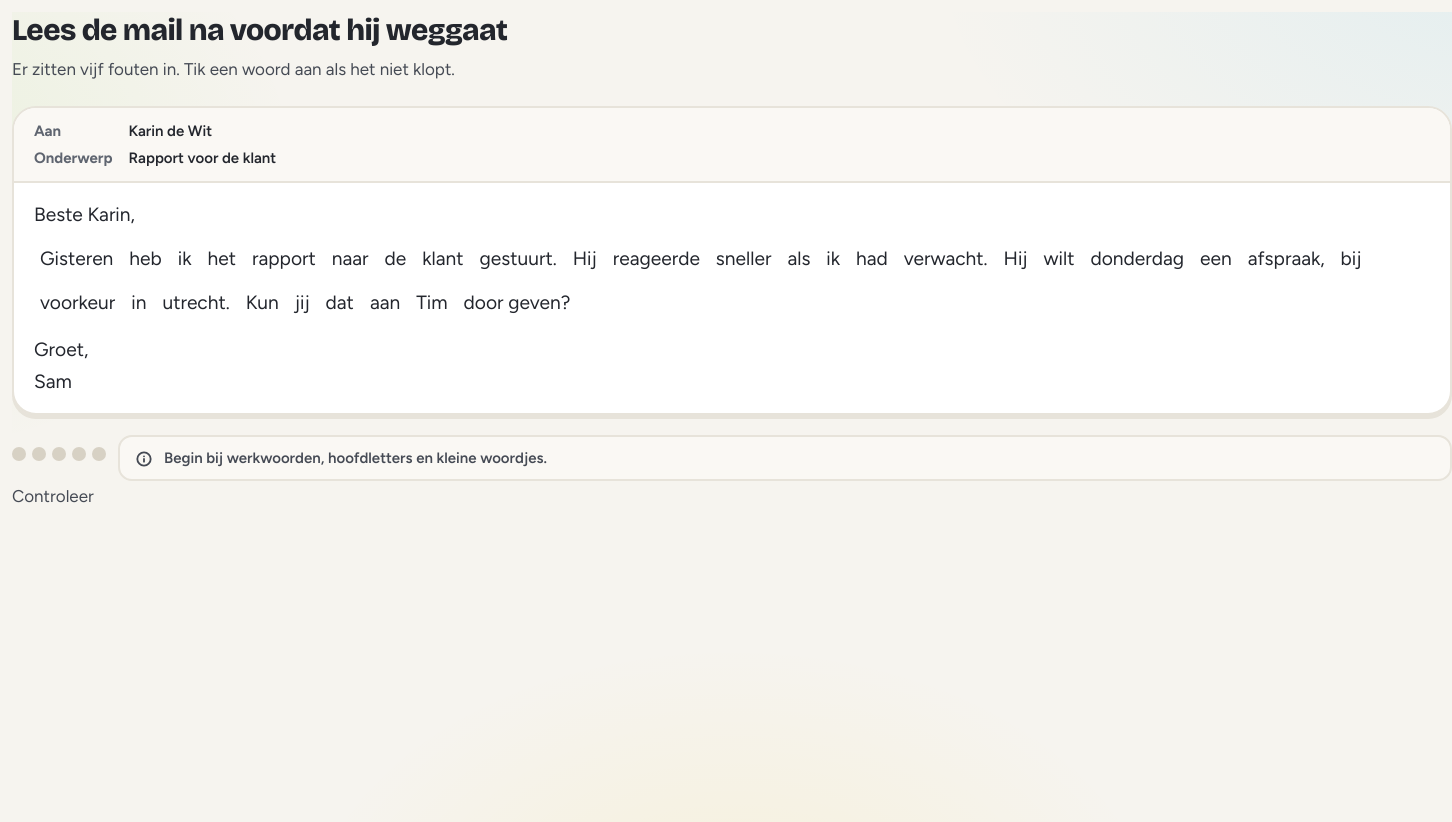
Scenario: groep D extra oefenvormen › vindt alle eindredactie-fouten en telt misgetikte woorden
Click the button "Gisteren" at [77, 258], box 34,238 -> 119,278
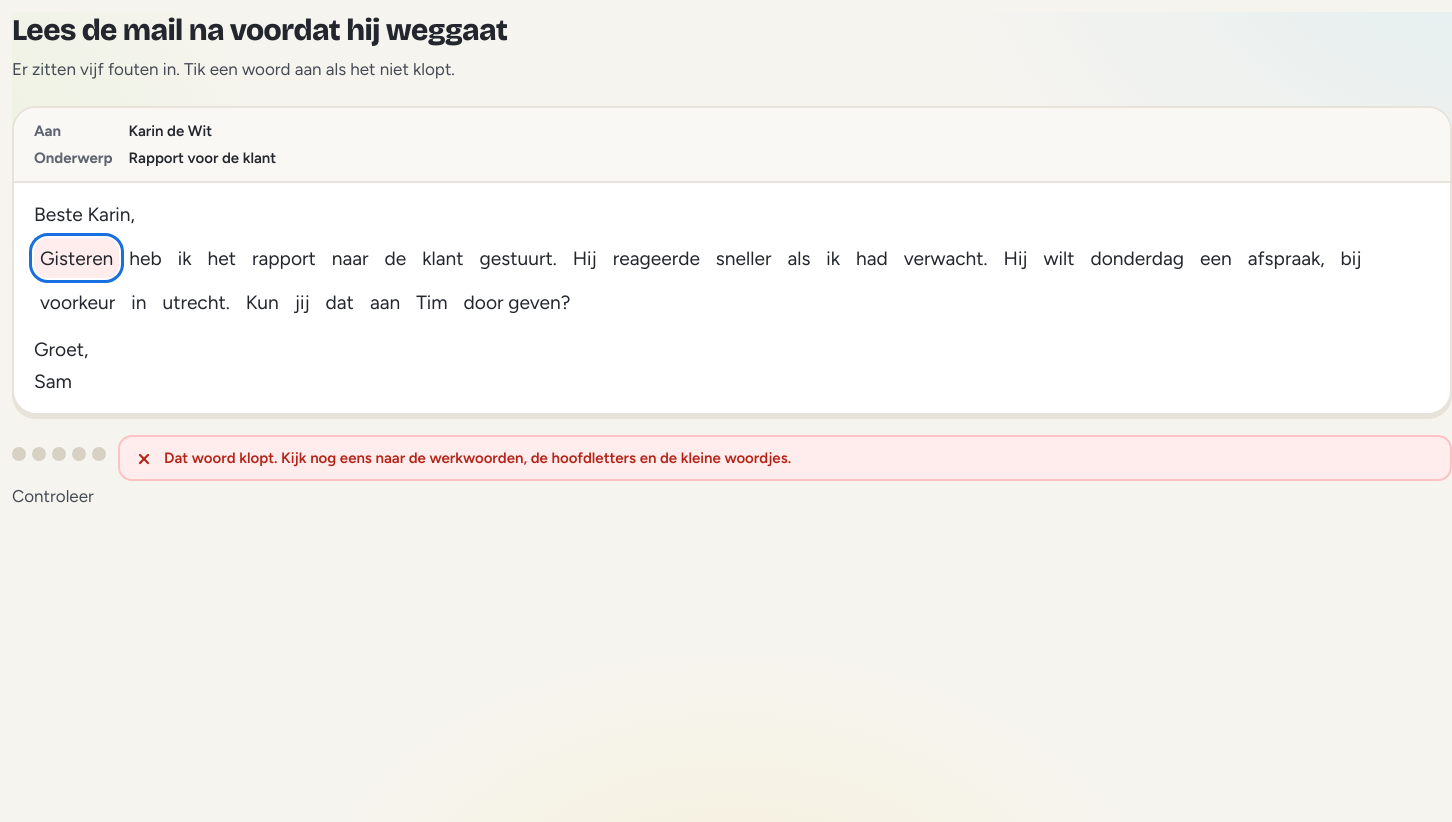
Click the button "gestuurt." at [518, 258], box 474,238 -> 563,278
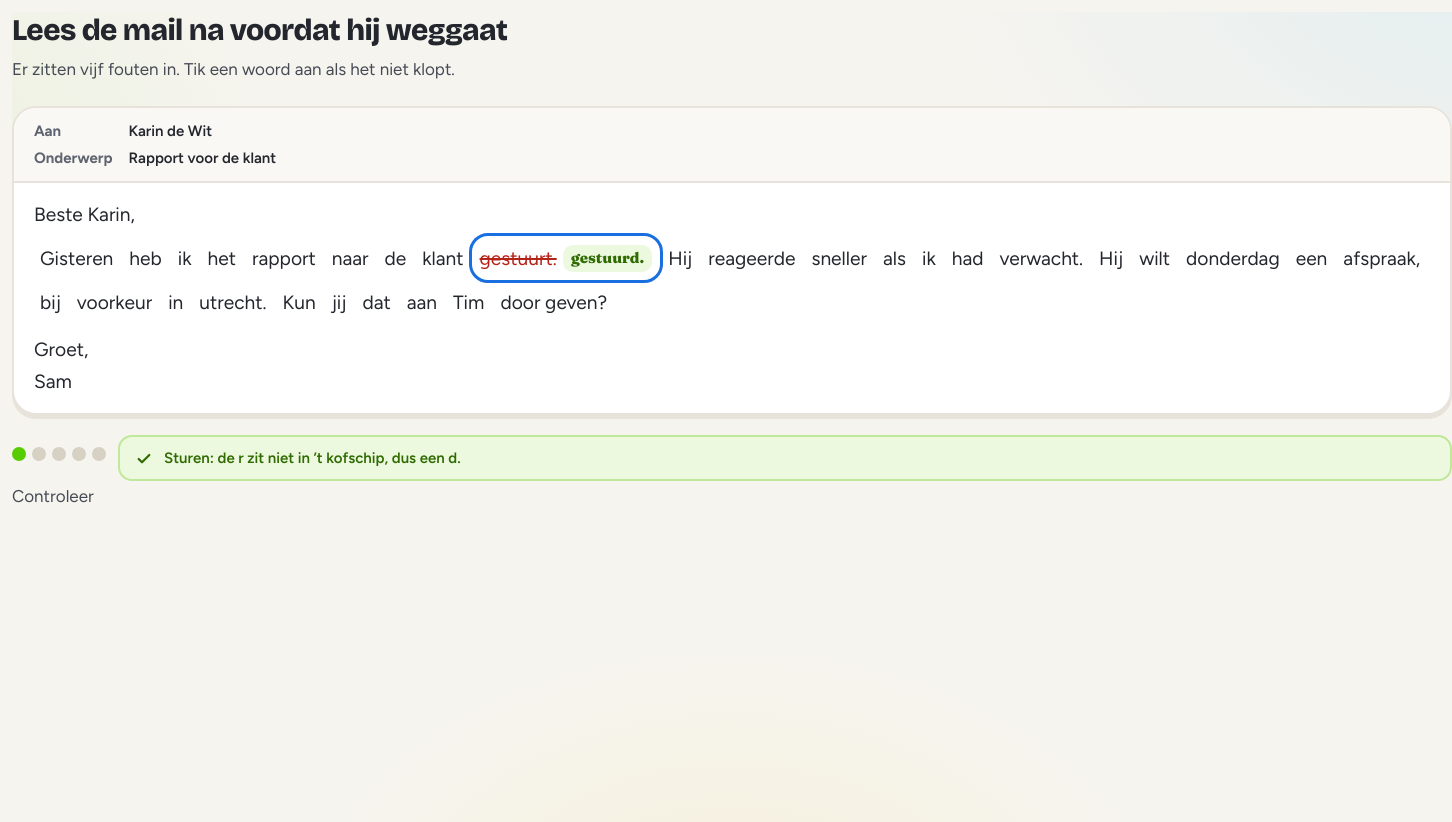
Click the button "als" at [894, 258], box 877,238 -> 912,278
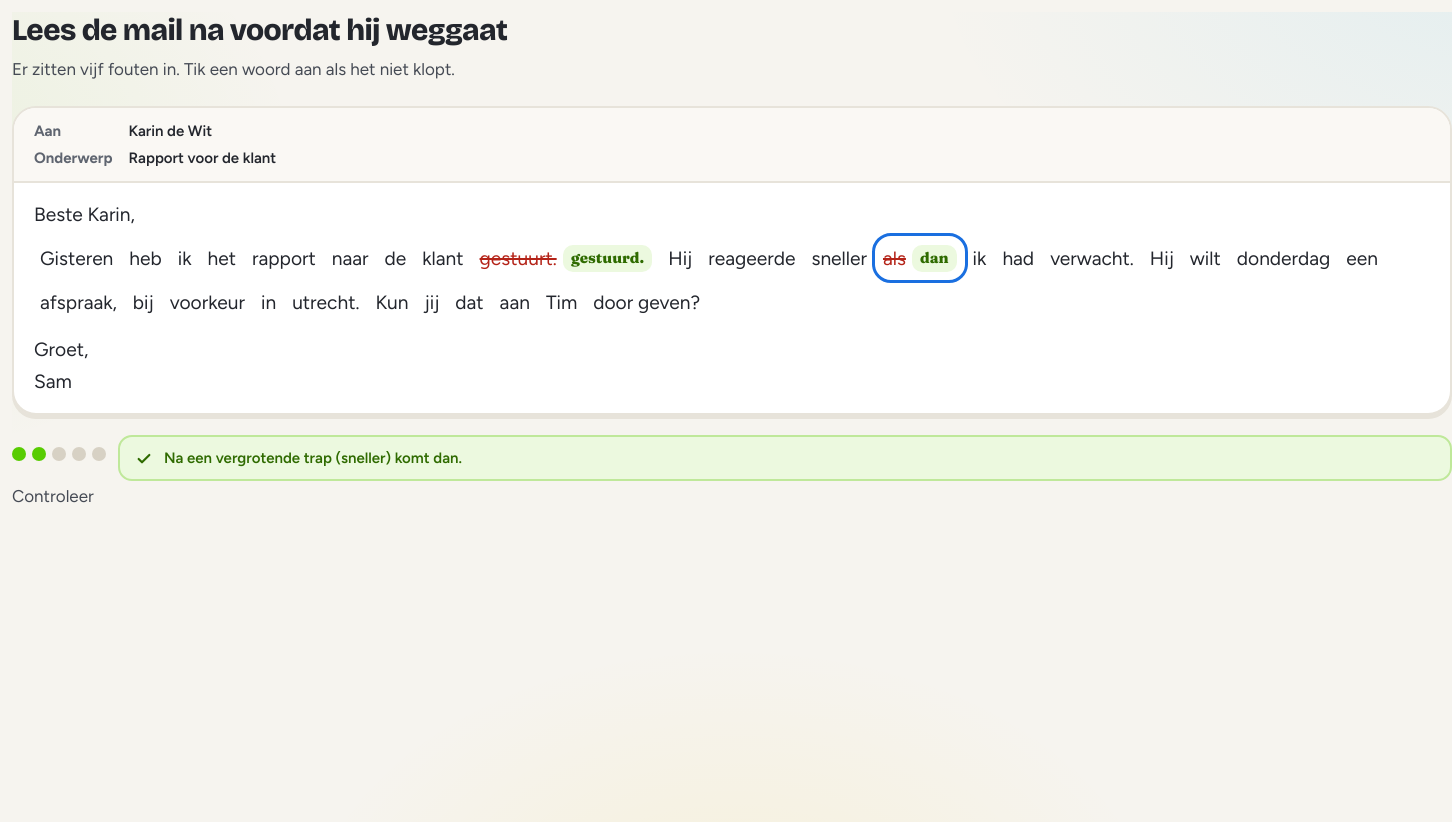
Click the button "wilt" at [1205, 258], box 1184,238 -> 1227,278
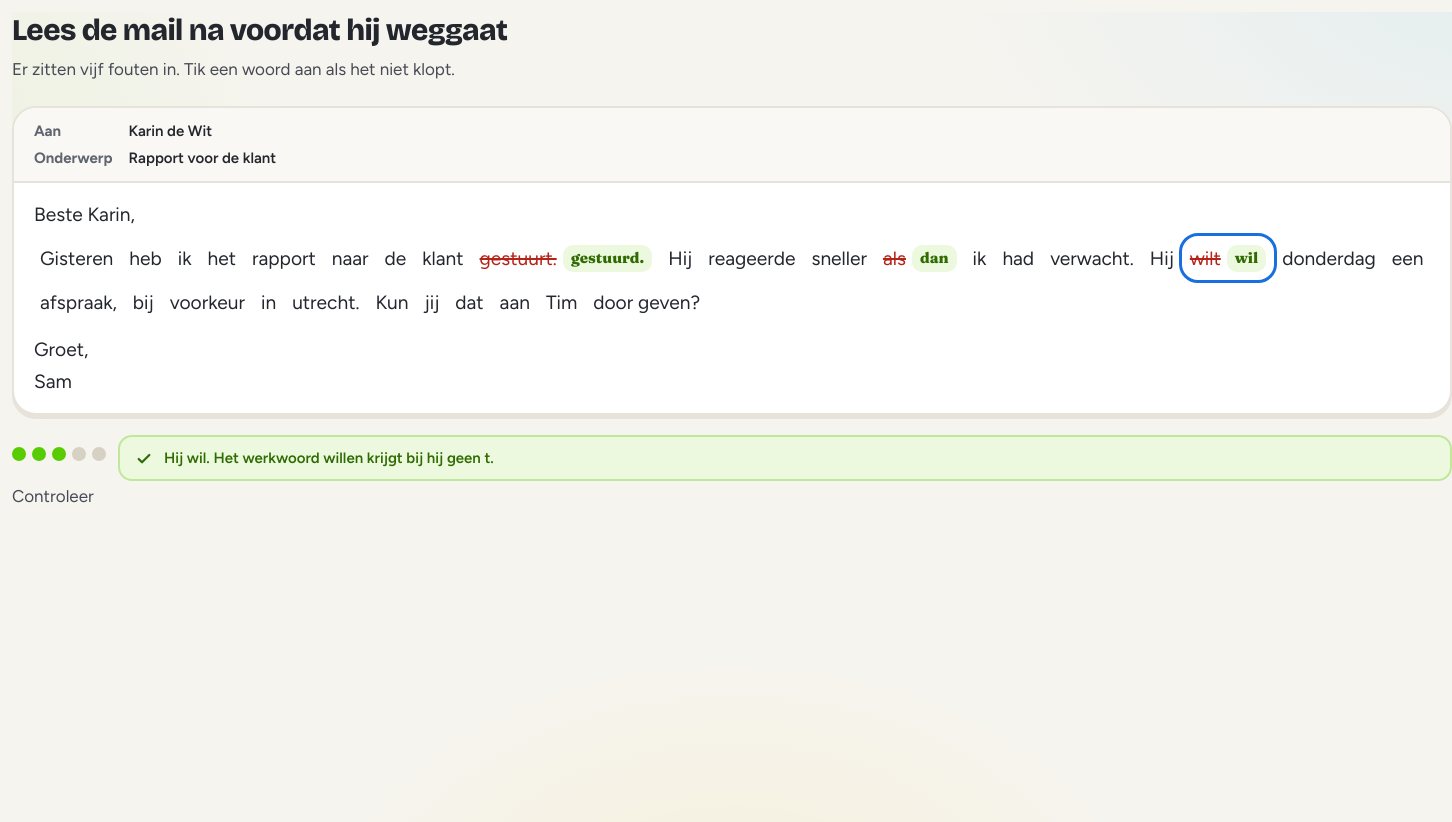
Click the button "utrecht." at [326, 302], box 286,282 -> 366,322
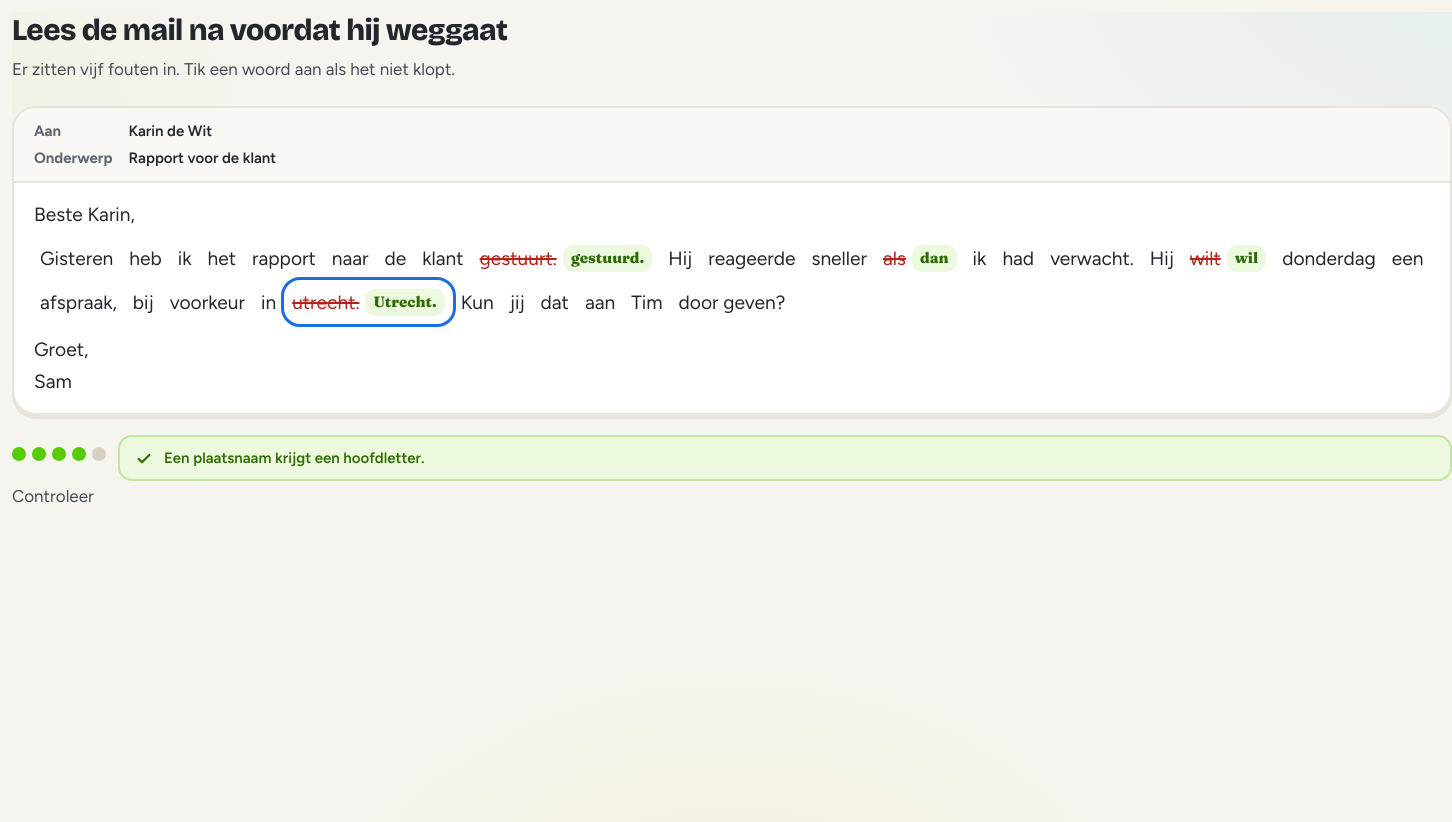
Click the button "door geven?" at [732, 302], box 672,282 -> 791,322
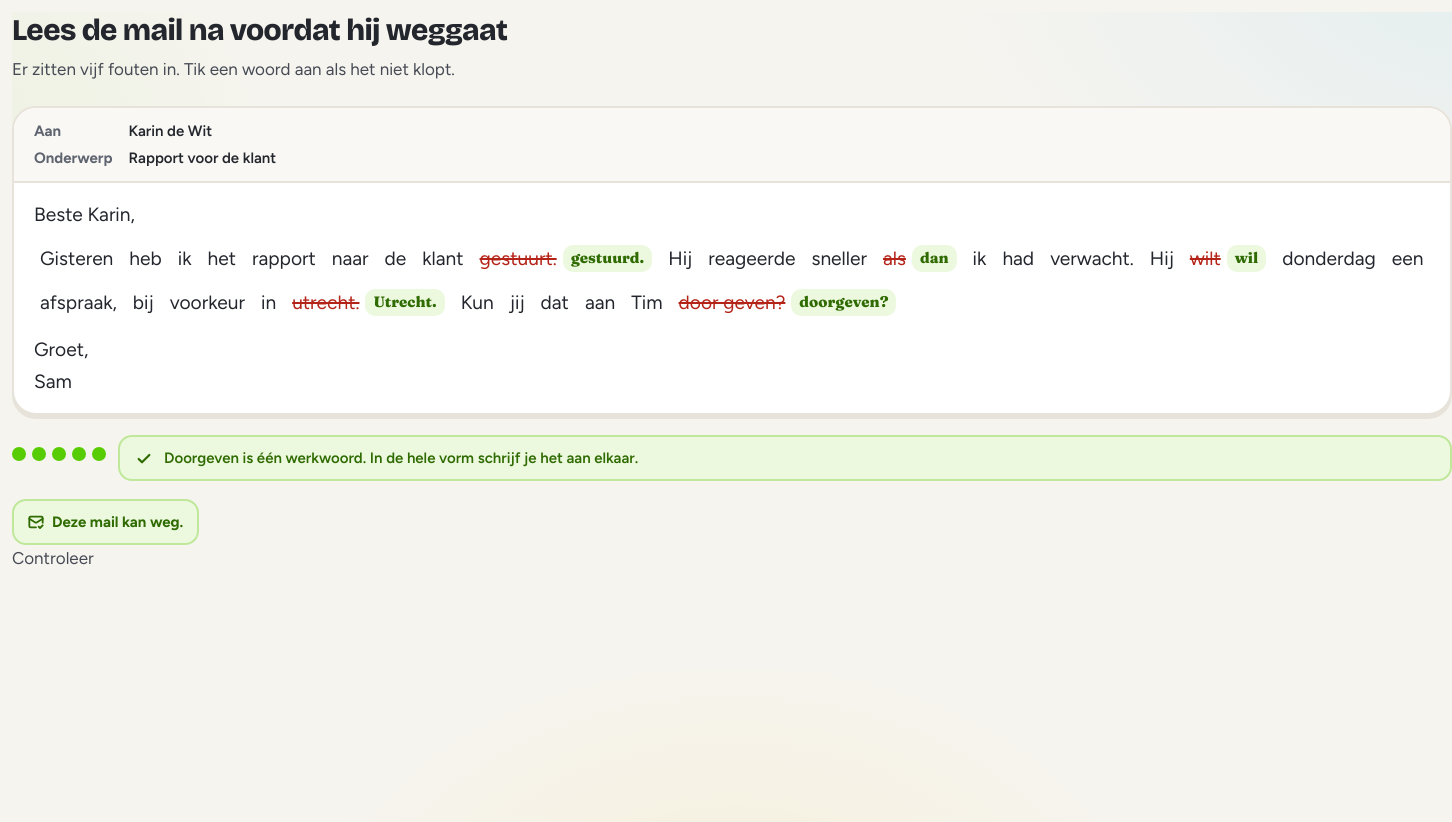
Check: the text "doorgeven?" is shown, box 791,289 -> 896,316
